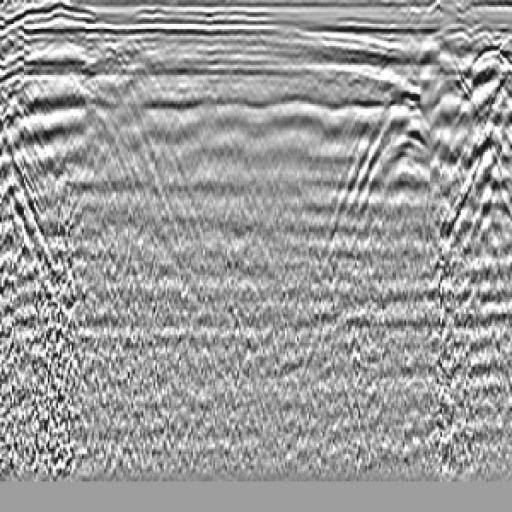metalic: (434, 29, 512, 282)
non-metallic: (306, 69, 482, 274)
